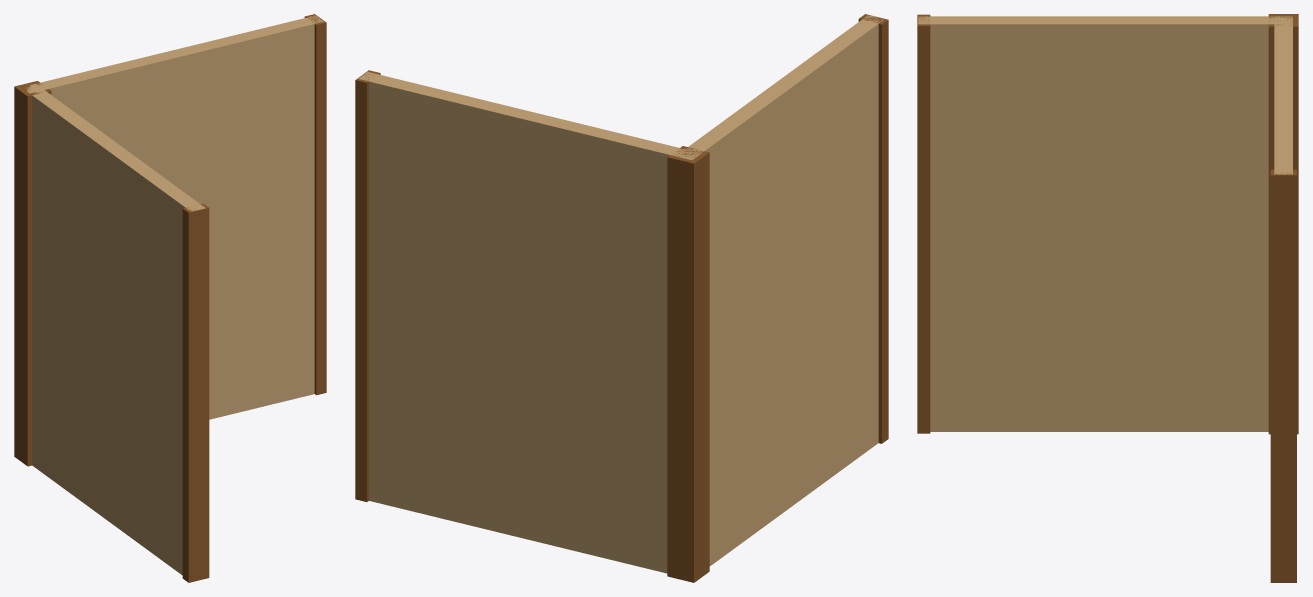
Rendered from wall_corner.glb.
The picture shows the model from 3 angles, left to right: view 1: azimuth 30°, elevation 25°; view 2: azimuth 150°, elevation 25°; view 3: azimuth 270°, elevation 25°; orthographic projection. The views are drawn at different scales.
Visible parts, largest first — view 1: wall_corner; view 2: wall_corner; view 3: wall_corner.
Part boxes in pixels (box(x1,y1,x2,y2)): wall_corner: box(14, 14, 326, 582); wall_corner: box(355, 14, 888, 582); wall_corner: box(917, 14, 1298, 582).
Size of the model in its own units: 2.03 by 2.4 by 2.03.
